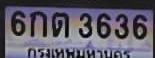3: (114, 13, 128, 38), (78, 12, 91, 37)
6: (96, 12, 110, 37), (10, 10, 24, 35), (132, 13, 146, 38)
A01: (29, 10, 46, 36)
A21: (51, 10, 68, 36)
BKK: (26, 44, 131, 58)
